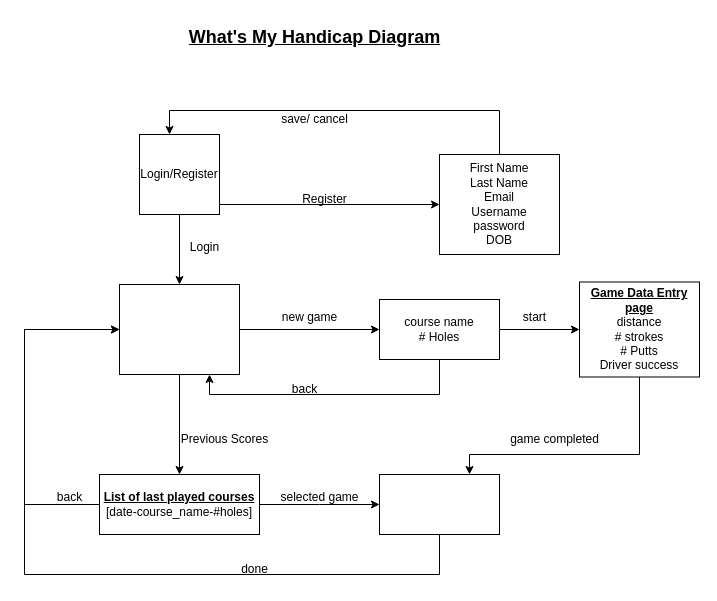
The diagram is 717 pixels wide and 601 high, and some of its shapes have lost their labels. The shapes that lost their labels are listed below. From the top down, each one's centre as x and y in pixels, then its label:
At point 179,329: "New Game Previous Scores HANDICAP".
At point 439,504: "Stored data of the selected game".
